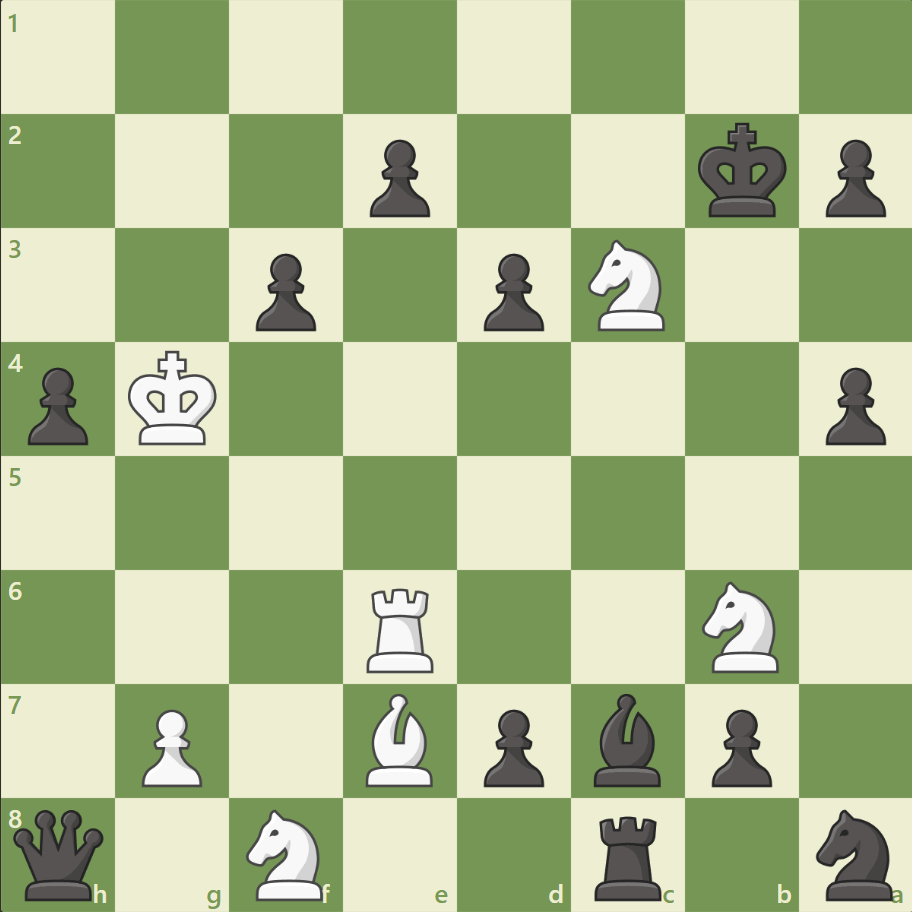B: (358, 687, 442, 790)
K: (124, 344, 224, 452)
N: (579, 234, 676, 337), (238, 802, 335, 904), (692, 575, 789, 677)
P: (133, 700, 208, 791)
R: (360, 579, 442, 676)
b: (585, 687, 669, 790)
k: (692, 117, 792, 225)
n: (806, 802, 903, 904)
p: (701, 700, 776, 791), (474, 700, 549, 791), (20, 359, 95, 450), (474, 246, 549, 337), (247, 246, 322, 337), (815, 359, 889, 450), (815, 132, 889, 223), (361, 132, 435, 223)
q: (10, 804, 109, 903)
r: (587, 806, 670, 904)
